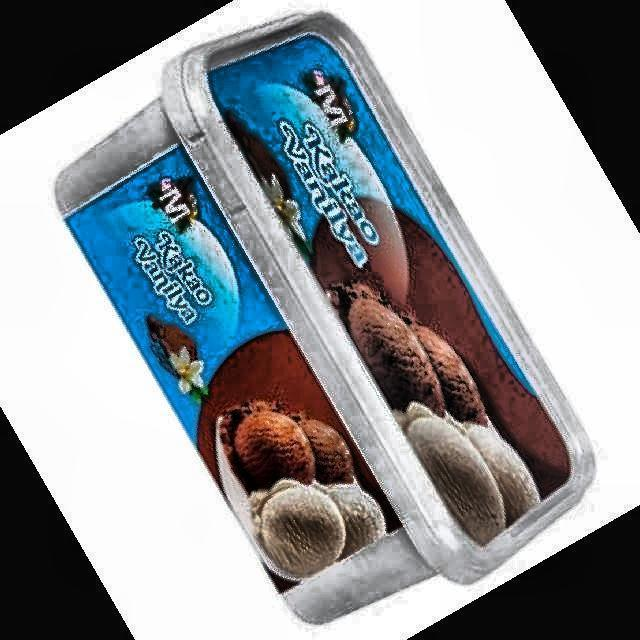plastic: (55, 10, 595, 625)
